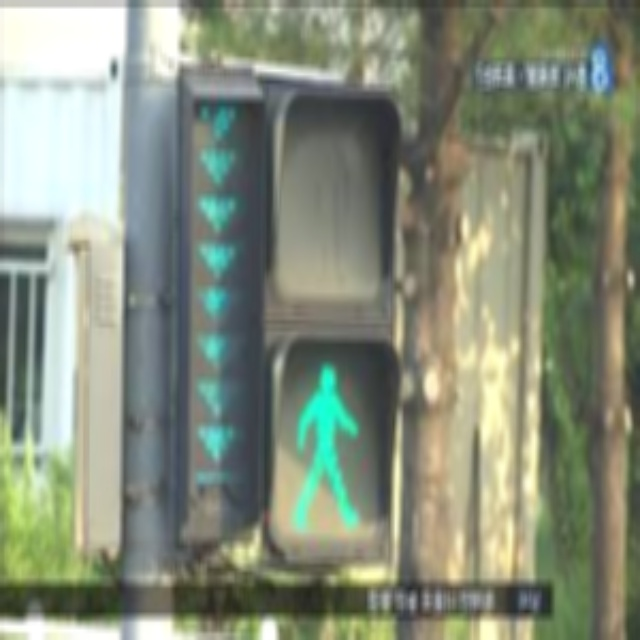green_light: (283, 361, 369, 528), (199, 283, 247, 327), (196, 424, 245, 462), (193, 333, 249, 366), (197, 196, 243, 234), (195, 150, 245, 184), (196, 383, 246, 417), (197, 240, 242, 271)
